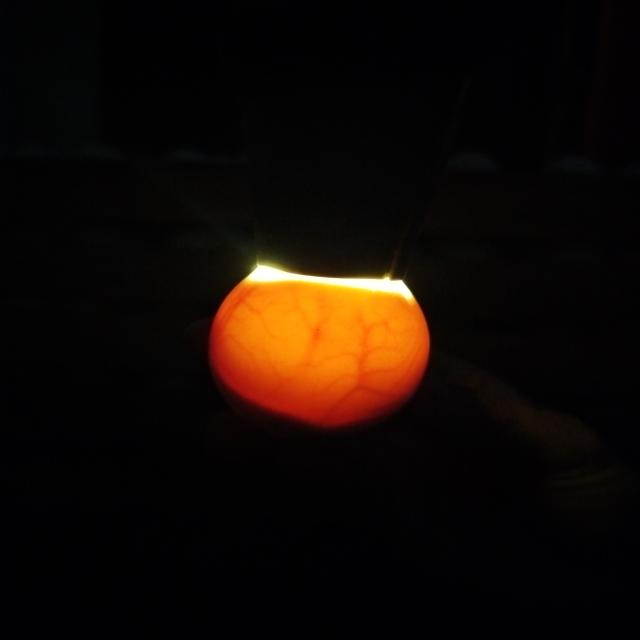Embriao: (209, 354, 409, 447)
